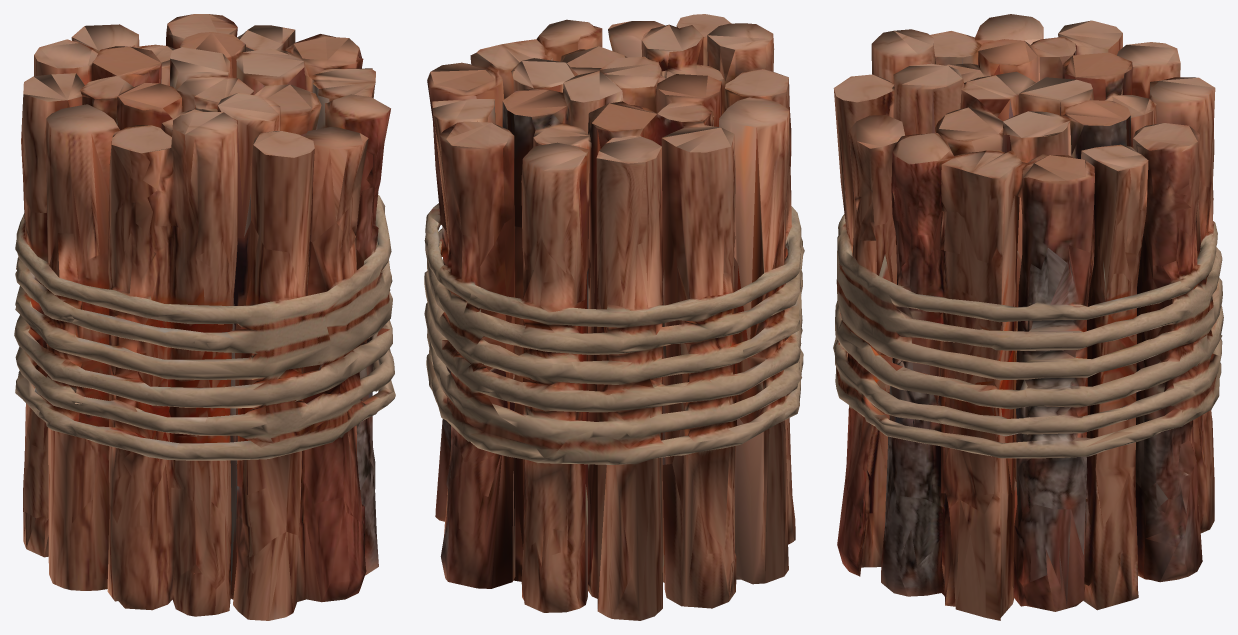
Rendered from lumberbundle.glb.
The picture shows the model from 3 angles, left to right: view 1: azimuth 30°, elevation 25°; view 2: azimuth 150°, elevation 25°; view 3: azimuth 270°, elevation 25°; orthographic projection. The views are drawn at different scales.
Visible parts, largest first — view 1: tripo_node_5df9a8cb; view 2: tripo_node_5df9a8cb; view 3: tripo_node_5df9a8cb.
Boxes of the visible parts, x1,y1,x2,y2 form: tripo_node_5df9a8cb: (14,14,395,620); tripo_node_5df9a8cb: (424,14,804,620); tripo_node_5df9a8cb: (833,14,1223,620).
Size of the model in its own units: 0.7162 by 0.9992 by 0.7379.
Materials: 1 (1 with a texture image).
